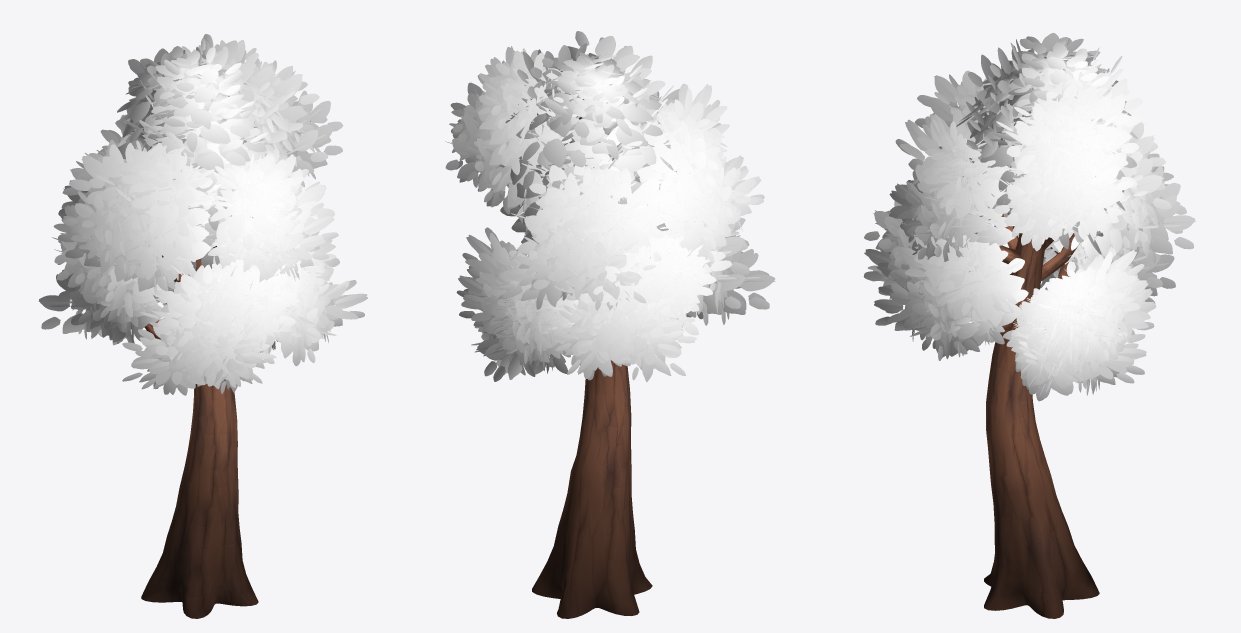
File: CommonTree_1.glb
The picture shows the model from 3 angles, left to right: view 1: azimuth 30°, elevation 25°; view 2: azimuth 150°, elevation 25°; view 3: azimuth 270°, elevation 25°; orthographic projection. The views are drawn at different scales.
Parts seen in each view (by area): view 1: CommonTree_1; view 2: CommonTree_1; view 3: CommonTree_1.
Boxes of the visible parts, <box> form: CommonTree_1: <box>38,34,367,618</box>; CommonTree_1: <box>445,31,775,618</box>; CommonTree_1: <box>863,33,1196,618</box>.
Size of what is drawn, in the model's own units: 4.31 by 7.26 by 4.58.
Materials: 2 (2 with a texture image).
